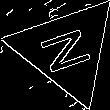N_E: (35, 22, 98, 77)
